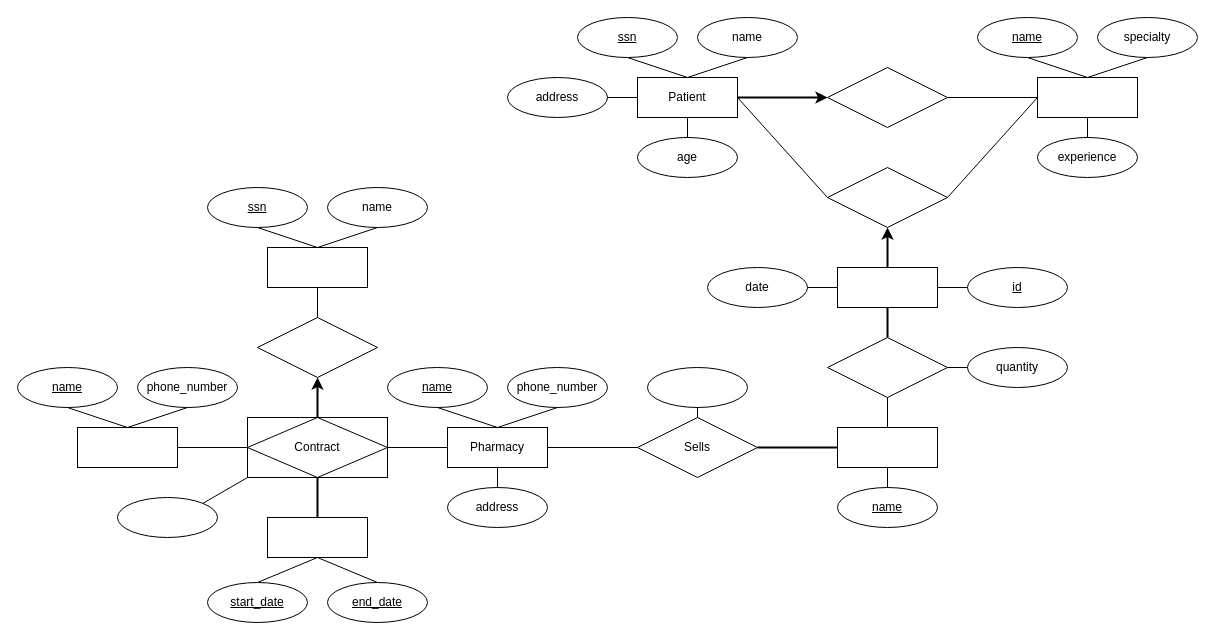
Image size: 1215x640. Some labels were removed from this diagram. Each missing label, with the box of its shape:
Contains: (826, 336, 948, 398)
Doctor: (1036, 76, 1138, 118)
Drug: (836, 426, 938, 468)
Duration: (266, 516, 368, 558)
Pharmaceutical _Company: (76, 426, 178, 468)
Prescribe: (826, 166, 948, 228)
Prescription: (836, 266, 938, 308)
price: (646, 366, 748, 408)
Primary_Physician: (826, 66, 948, 128)
Supervises: (256, 316, 378, 378)
Supervisor: (266, 246, 368, 288)
text: (116, 496, 218, 538)
